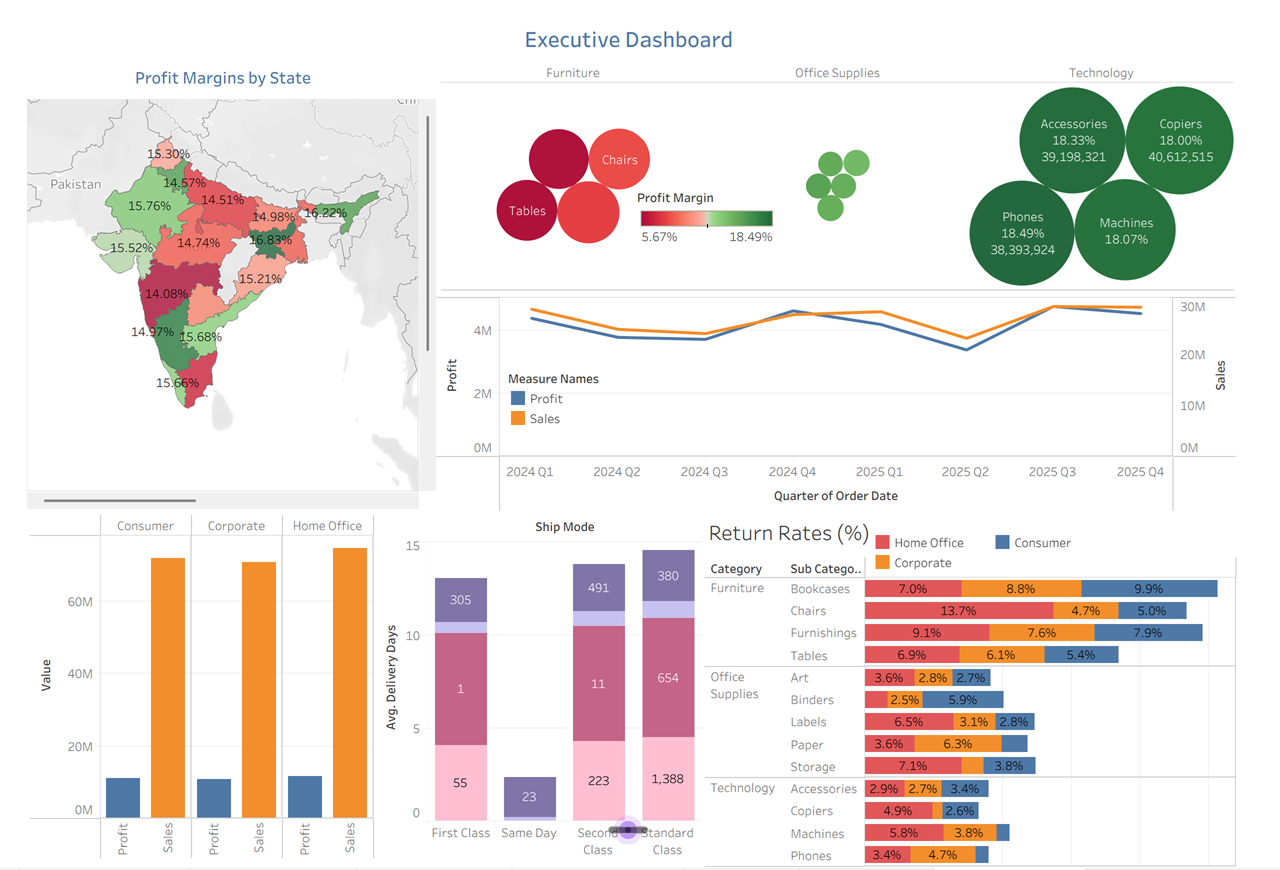

The page's visual inventory and layout, read from the dashboard file:
{"tool":"tableau","page":{"name":"Executive Dashboard","canvas":[1000,1000],"units":"permille","ordinal":0},"visuals":[{"type":"text","box":[186.9,18.1,627.1,46]},{"type":"worksheet","title":"Regional Performance View","mark":"Multipolygon","box":[7.4,68.3,335.2,520.2]},{"type":"worksheet","title":"Category Profitability View","mark":"Circle","cols":["category"],"box":[346.7,68.3,650,270.6]},{"type":"legend","title":"Category Profitability View","param":"[federated.1c7ksvu1msn88s0znw6xs0fwabho].[usr:Calculation_0670718913286146:qk]","box":[507.4,216.2,114.8,106]},{"type":"worksheet","title":"Sales Trend View","mark":"Automatic","rows":["profit","sales"],"cols":["order_date"],"box":[342.6,341.7,655.7,249.7]},{"type":"legend","title":"Sales Trend View","param":"[federated.1c7ksvu1msn88s0znw6xs0fwabho].[:Measure Names]","box":[401.6,426.8,123,79.5]},{"type":"worksheet","title":"Return Analysis View","mark":"Automatic","rows":["category","sub_category"],"cols":["Calculation_0670718914060293"],"box":[562.3,594.1,436.1,410]},{"type":"worksheet","title":"Customer Segment View","mark":"Automatic","cols":["customer_segment"],"box":[9.8,595.5,282,400.3]},{"type":"worksheet","title":"Shipping Performance View","mark":"Automatic","rows":["delivery_days"],"cols":["ship_mode"],"box":[298.4,596.9,262.3,401.7]},{"type":"legend","title":"Return Analysis View","param":"[federated.1c7ksvu1msn88s0znw6xs0fwabho].[none:customer_segment:nk]","box":[700,615.1,300,46]}]}

Visuals, with their boxes on the dashboard's canvas, which has no fixed pixel size, in thousandths of its width and height (x1, y1, x2, y2). These are canvas units, not pixel positions in the 1280x870 screenshot, which may show the page scaled, cropped or inside an application window:
text: detection(187, 18, 814, 64)
"Regional Performance View" worksheet (Multipolygon marks): detection(7, 68, 343, 588)
"Category Profitability View" worksheet (Circle marks): detection(347, 68, 997, 339)
"Category Profitability View" legend: detection(507, 216, 622, 322)
"Sales Trend View" worksheet: detection(343, 342, 998, 591)
"Sales Trend View" legend: detection(402, 427, 525, 506)
"Return Analysis View" worksheet: detection(562, 594, 998, 1004)
"Customer Segment View" worksheet: detection(10, 596, 292, 996)
"Shipping Performance View" worksheet: detection(298, 597, 561, 999)
"Return Analysis View" legend: detection(700, 615, 1000, 661)
